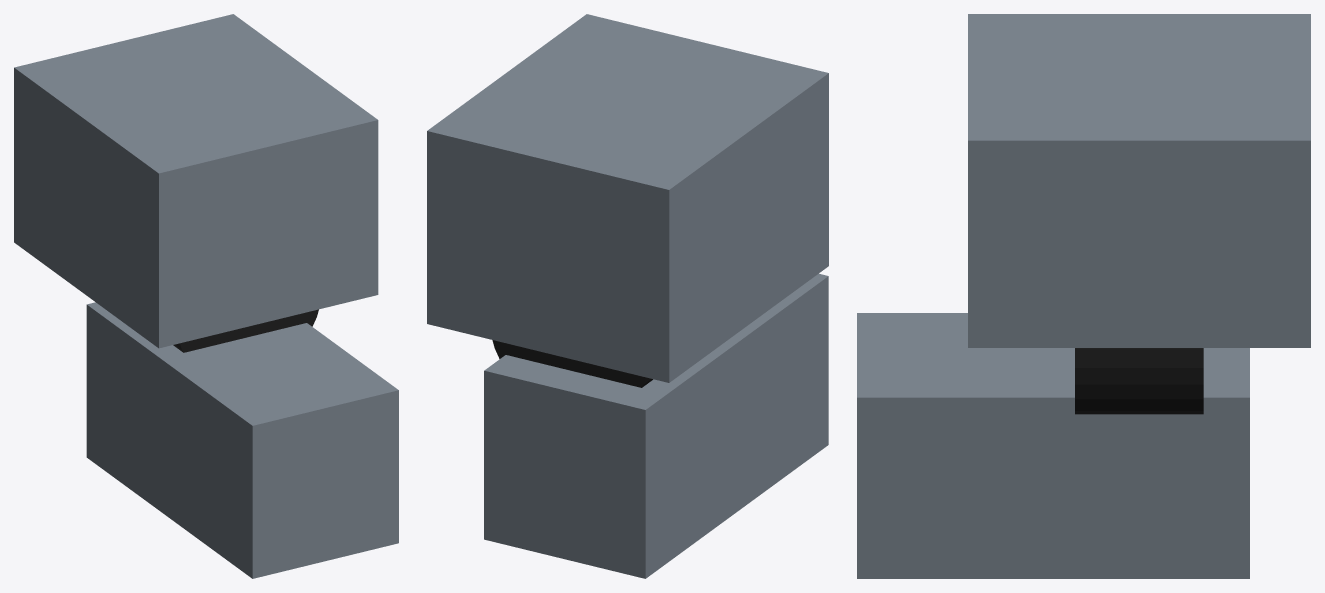
The model's file is arm_right_line.obj.
3 renders of one model, left to right at view 1: azimuth 30°, elevation 25°; view 2: azimuth 150°, elevation 25°; view 3: azimuth 270°, elevation 25°, orthographic. The views are drawn at different scales.
Bounding box in the file's own units: 0.42 × 0.7 × 0.635.
